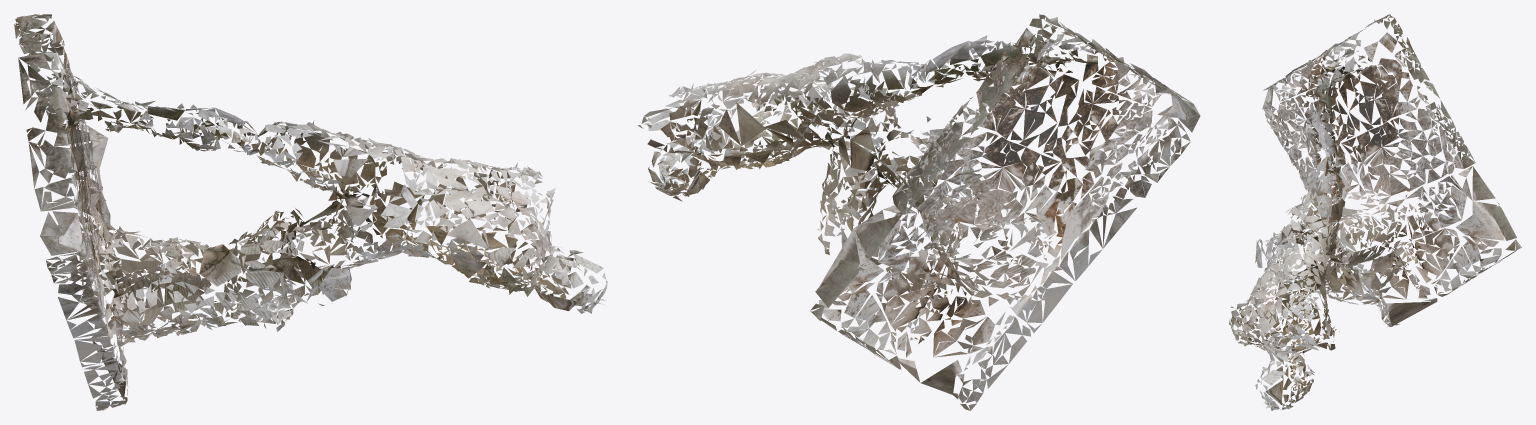
Rendered from borghese_gladiator_statue.glb.
The picture shows the model from 3 angles, left to right: view 1: azimuth 30°, elevation 25°; view 2: azimuth 150°, elevation 25°; view 3: azimuth 270°, elevation 25°; orthographic projection. The views are drawn at different scales.
Visible parts, largest first — view 1: Model_material0_0; view 2: Model_material0_0; view 3: Model_material0_0.
Part boxes in pixels (x1=…): Model_material0_0: x1=14, y1=14, x2=607, y2=410; Model_material0_0: x1=638, y1=14, x2=1200, y2=410; Model_material0_0: x1=1229, y1=14, x2=1521, y2=410.
Bounding box in the file's own units: 11.32 × 8.01 × 7.49.
2 materials, 2 textured.
